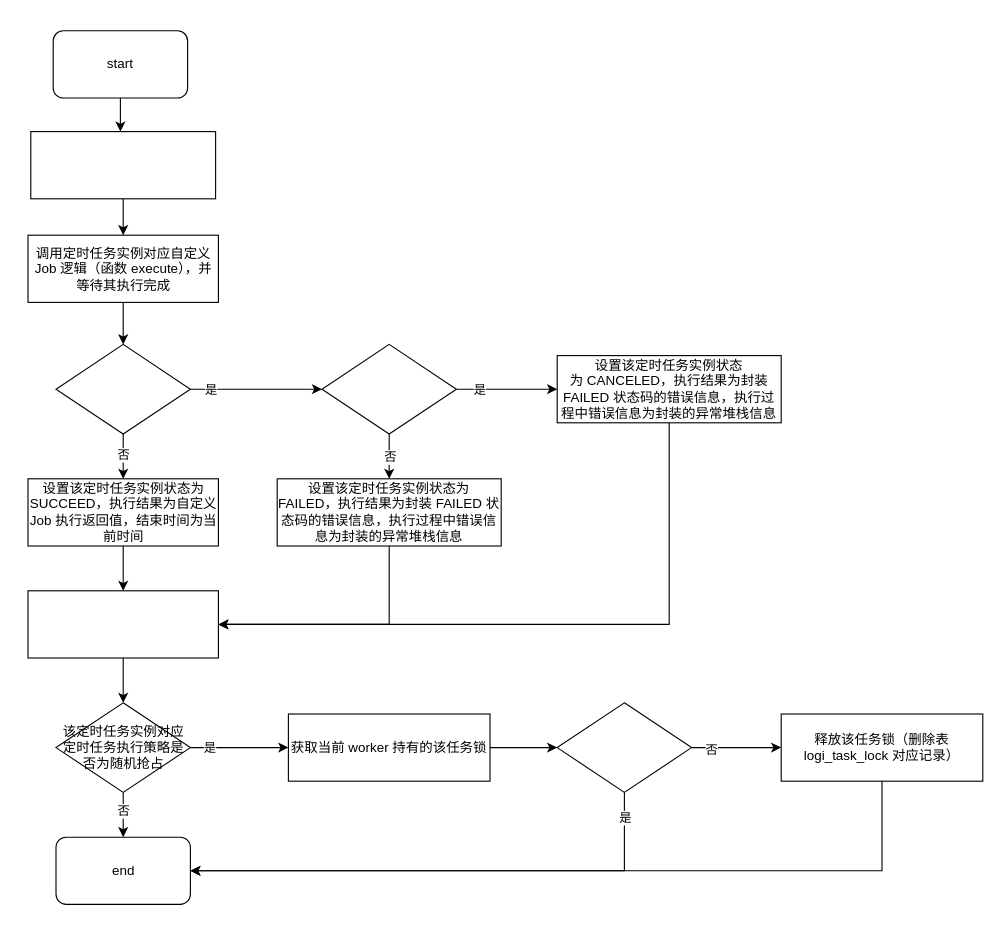
Image size: 1002x934. Some labels were removed from this diagram. Each missing label, with the centre of its shape:
异常类型是否为 InterruptedException: the point at 388,388
根据该定时任务实例，更新对应任务日志信息，包括：任务执行结束时间、任务状态、执行结果、执行过程中错误信息等: the point at 122,624
自定义 Job 运行过程中是否出现异常: the point at 122,388
设置该定时任务实例的开始时间为当前时间: the point at 123,164
该任务锁是否已过期: the point at 624,747
